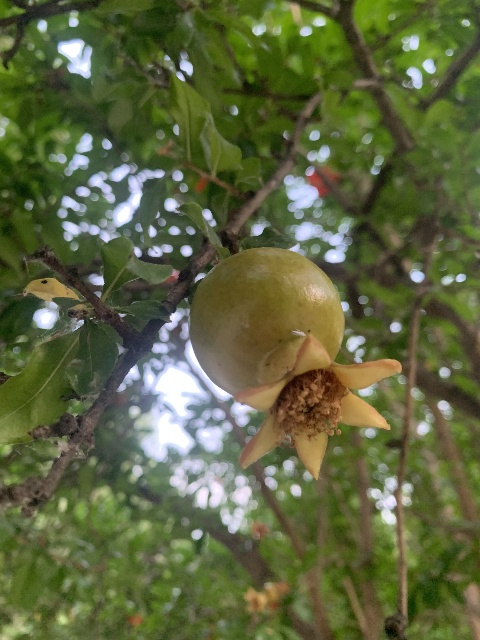mid-growth: (187, 247, 403, 482)
